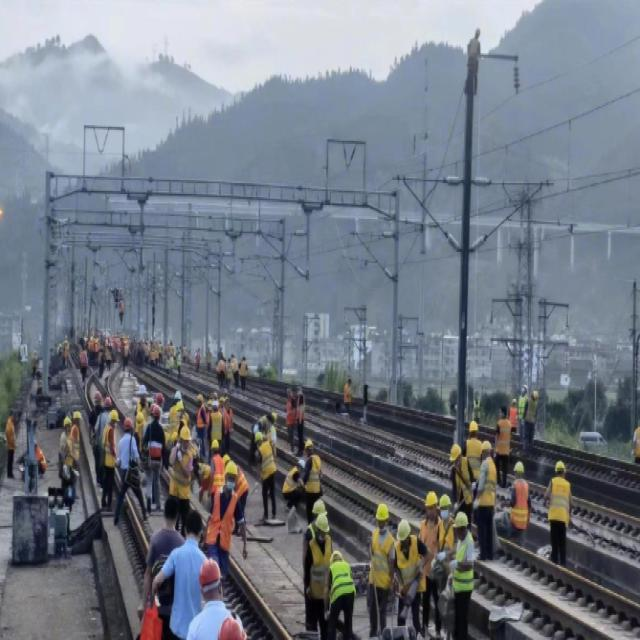people: (134, 486, 183, 640), (160, 510, 207, 635), (364, 496, 398, 630), (448, 504, 476, 638), (394, 515, 424, 632), (432, 484, 456, 608), (212, 467, 240, 572), (419, 481, 441, 612), (549, 465, 576, 564), (327, 544, 356, 635), (309, 516, 333, 622), (443, 443, 474, 523), (474, 443, 498, 543), (53, 410, 78, 501), (300, 434, 328, 506), (118, 421, 144, 496), (255, 431, 279, 511), (464, 411, 486, 494), (172, 430, 197, 503), (225, 453, 251, 522), (143, 407, 167, 478), (511, 462, 530, 546), (492, 410, 512, 478), (104, 413, 120, 498), (70, 405, 91, 468), (92, 383, 108, 450), (293, 377, 310, 438), (287, 451, 304, 511), (98, 397, 115, 456), (340, 374, 361, 421), (210, 436, 225, 491), (285, 384, 296, 456), (197, 393, 210, 451), (208, 399, 222, 446), (73, 339, 90, 375), (141, 341, 162, 368), (531, 386, 540, 442), (228, 358, 240, 400), (118, 338, 135, 366), (508, 393, 518, 440), (518, 383, 526, 438), (214, 355, 226, 391), (224, 398, 234, 440), (156, 340, 170, 370), (240, 355, 250, 396), (175, 343, 185, 374), (99, 346, 110, 374)
